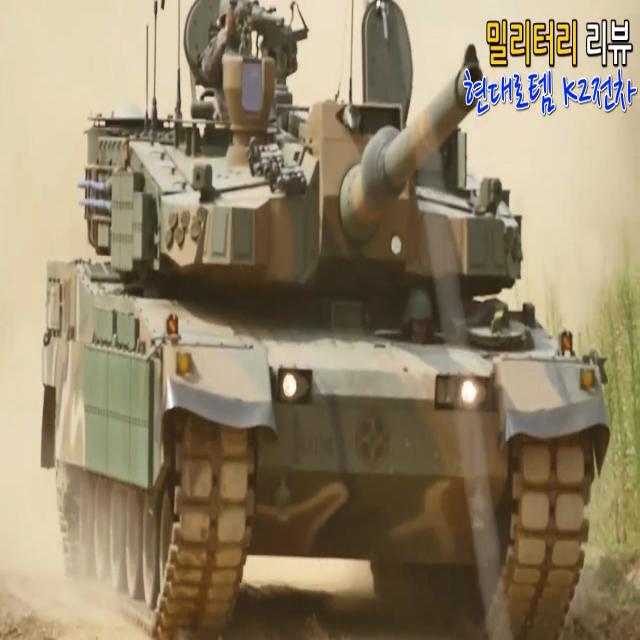korea tank: (42, 1, 612, 639)
